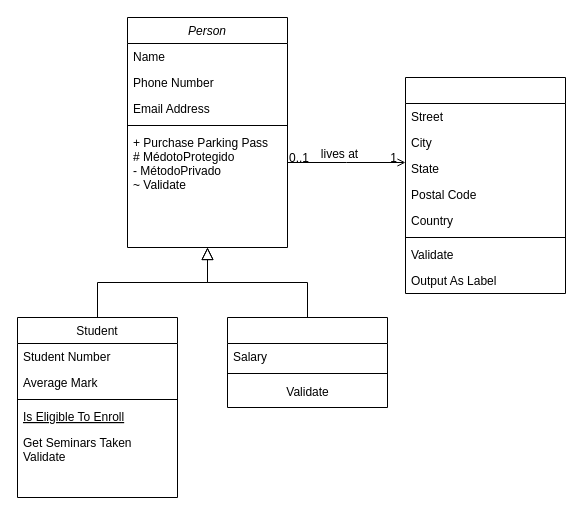
Some shapes in this 583 by 518 pixel diagram are drawn without their labels. Each missing label, with the box of its shape:
Address: (404, 76, 566, 294)
Professor: (226, 316, 388, 408)
